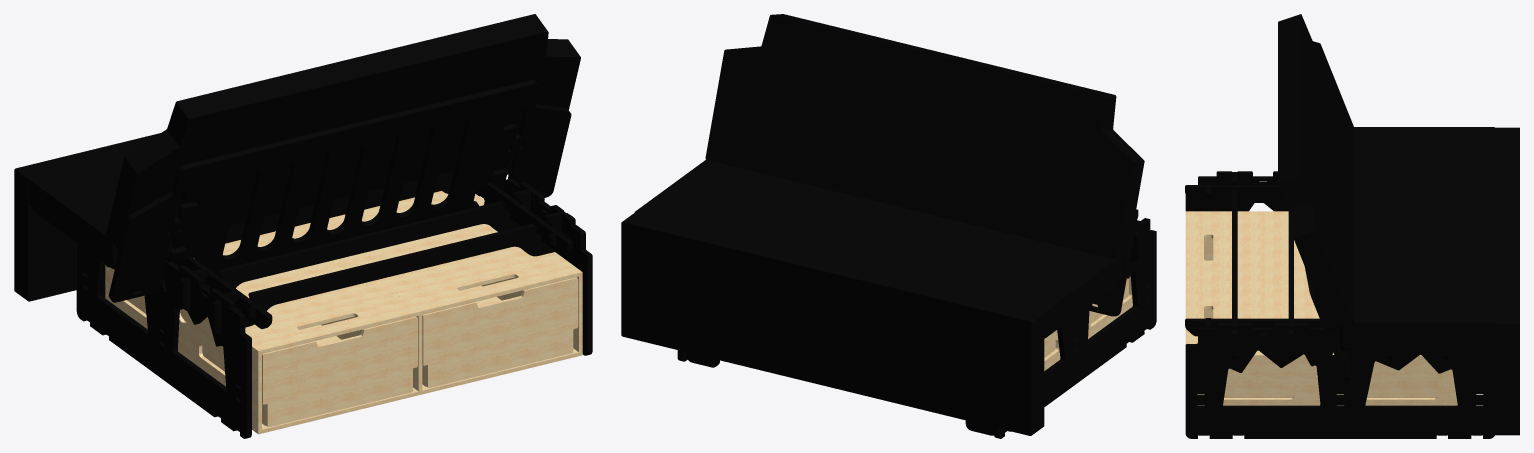
File: Cuillin_expedition_assise.glb
3 views of the same model, side by side, from view 1: azimuth 30°, elevation 25°; view 2: azimuth 150°, elevation 25°; view 3: azimuth 270°, elevation 25° (orthographic). The views are drawn at different scales.
Bounding box in the file's own units: 1.51 × 0.9563 × 1.08.
2 materials, 1 textured.
